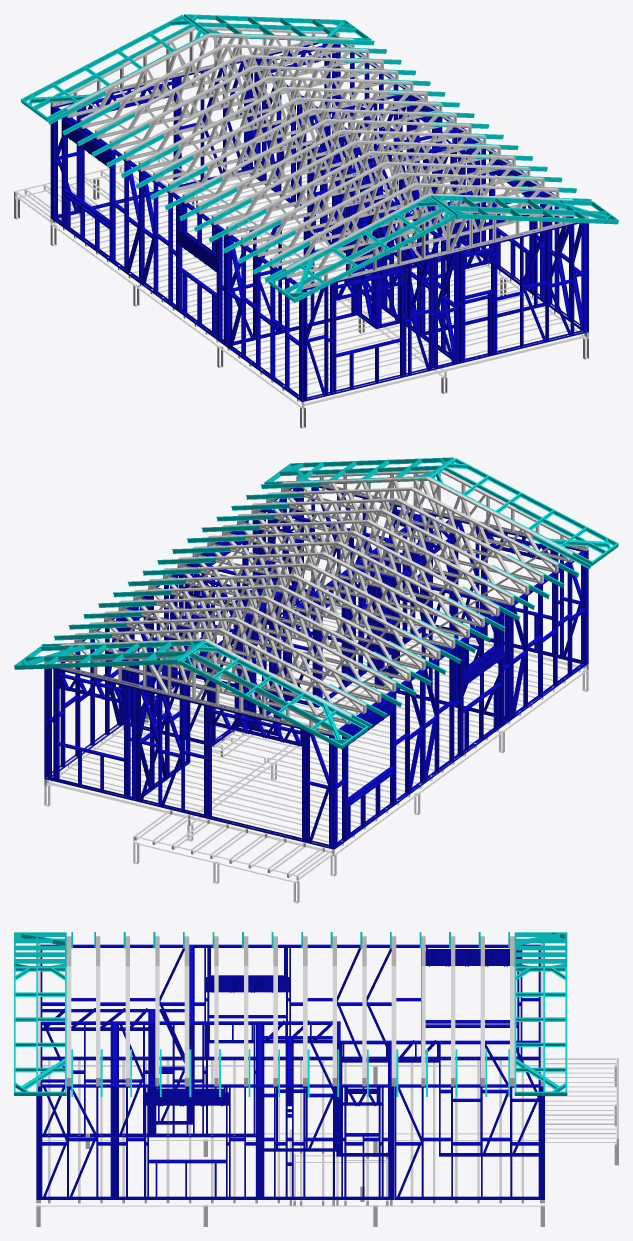
The model's file is computer.glb.
3 views of the same model, one above another, from view 1: azimuth 30°, elevation 25°; view 2: azimuth 150°, elevation 25°; view 3: azimuth 270°, elevation 25° (orthographic).
Parts seen in each view (by area): view 1: W1, RT1, R1, n3, n2; view 2: W1, RT1, R1, n3, n2; view 3: W1, RT1, n3, R1, n2.
Boxes of the visible parts, x1,y1,x2,y2 form: W1: (50, 41, 588, 402); RT1: (50, 26, 588, 289); R1: (20, 14, 618, 302); n3: (14, 152, 588, 408); n2: (14, 170, 588, 428); W1: (44, 485, 588, 849); RT1: (44, 469, 588, 735); R1: (14, 457, 618, 749); n3: (44, 599, 588, 883); n2: (44, 600, 588, 903); W1: (36, 944, 544, 1199); RT1: (38, 936, 543, 1086); n3: (36, 1058, 618, 1206); R1: (14, 932, 567, 1096); n2: (36, 1065, 618, 1226).
Size of the model in its own units: 7747 by 4246 by 12275.
